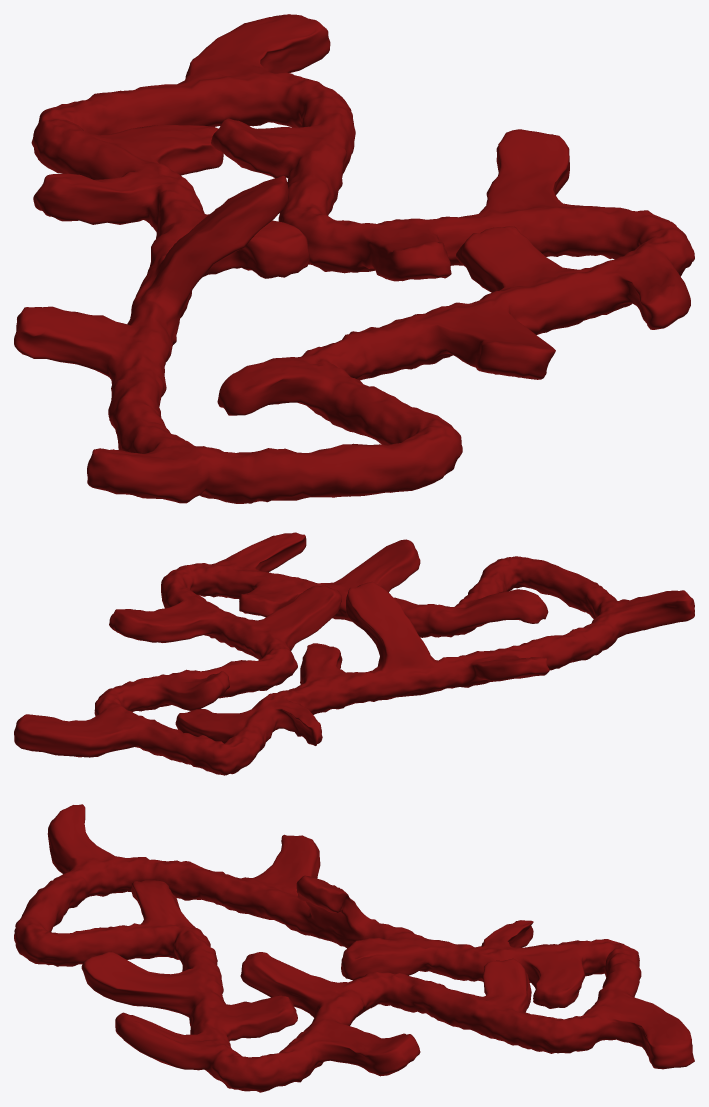
Rendered from Blood Vessel_Branches 1.FBX.
3 views of the same model, one above another, from view 1: azimuth 30°, elevation 25°; view 2: azimuth 150°, elevation 25°; view 3: azimuth 270°, elevation 25° (orthographic). The views are drawn at different scales.
Visible parts, largest first — view 1: Blood Vessel; view 2: Blood Vessel; view 3: Blood Vessel.
Boxes of the visible parts, bbox=[...] form: Blood Vessel: bbox=[14, 14, 694, 503]; Blood Vessel: bbox=[14, 532, 694, 775]; Blood Vessel: bbox=[14, 804, 694, 1092].
Bounding box in the file's own units: 190 × 224 × 35.84.
